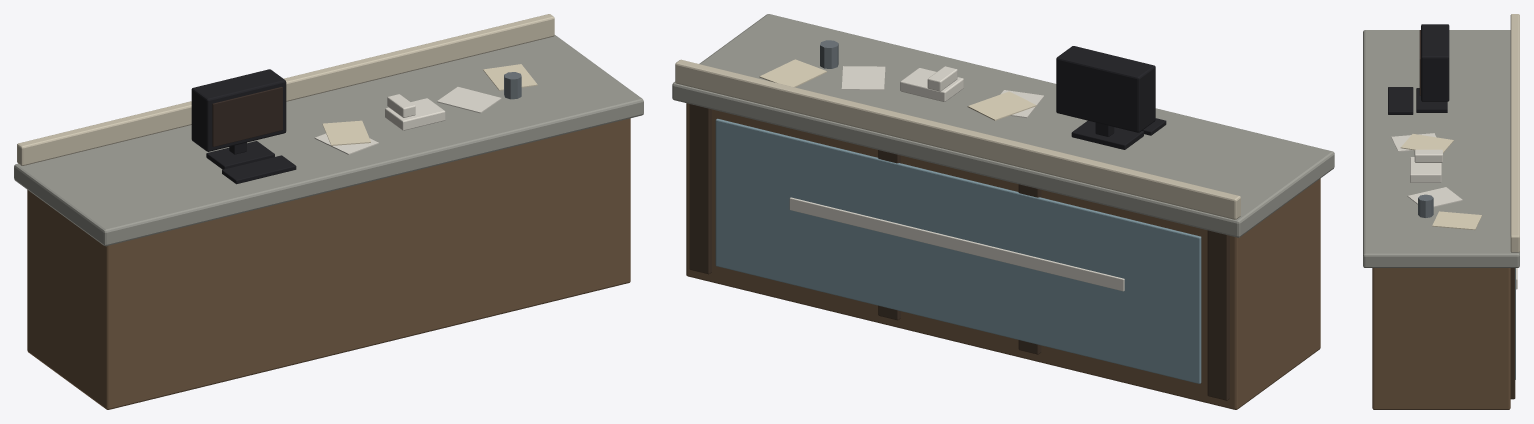
The model's file is reception_desk_h.glb.
3 views of the same model, side by side, from view 1: azimuth 30°, elevation 25°; view 2: azimuth 150°, elevation 25°; view 3: azimuth 270°, elevation 25° (orthographic). The views are drawn at different scales.
Parts seen in each view (by area): view 1: reception_desk_h; view 2: reception_desk_h; view 3: reception_desk_h.
Boxes of the visible parts, x1,y1,x2,y2 form: reception_desk_h: (14,14,643,409); reception_desk_h: (672,14,1334,409); reception_desk_h: (1363,14,1519,409).
Size of what is drawn, in the model's own units: 3.4 by 1.56 by 1.
Materials: 2 (2 with a texture image).
